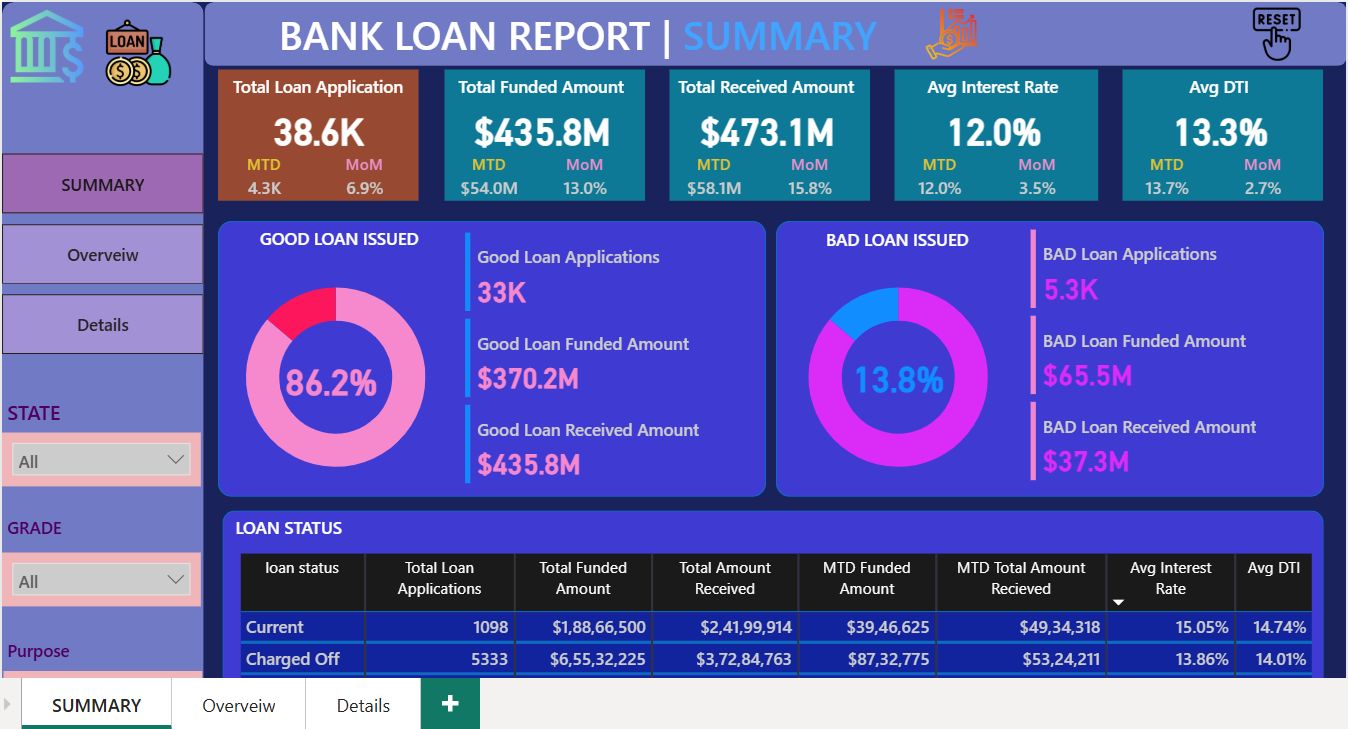

The page's visual inventory and layout, read from the dashboard file:
{"tool":"powerbi","page":{"name":"SUMMARY","canvas":[1280,720],"ordinal":0},"visuals":[{"type":"image","box":[3.1,0,79.7,84.4],"z":0,"group":"g6"},{"type":"shape","box":[206.3,64.1,191,125],"z":0,"group":"g1"},{"type":"shape","box":[422,64.1,191,125],"z":0,"group":"g2"},{"type":"shape","box":[636.1,64.1,191,125],"z":0,"group":"g3"},{"type":"shape","box":[850.3,64.1,194.1,125],"z":0,"group":"g4"},{"type":"shape","box":[1067.5,64.1,191,125],"z":0,"group":"g5"},{"type":"shape","box":[206.3,207.9,522,262.6],"z":0},{"type":"image","box":[82.8,10.9,93.8,73.5],"z":1000,"group":"g6"},{"type":"card","fields":{"Values":["public loan_data.Total Loan Applications"]},"box":[220.4,96.9,162.6,46.9],"z":1000,"group":"g1"},{"type":"card","fields":{"Values":["public loan_data.Total Funded Amount"]},"box":[435.6,96.9,157,46.9],"z":1000,"group":"g2"},{"type":"card","fields":{"Values":["public loan_data.Total Amount Received"]},"box":[649.7,96.9,157,46.9],"z":1000,"group":"g3"},{"type":"card","fields":{"Values":["public loan_data.Avg Interest Rate"]},"box":[864.1,96.9,159.5,46.9],"z":1000,"group":"g4"},{"type":"card","fields":{"Values":["public loan_data.Avg DTI"]},"box":[1081.1,96.9,157,46.9],"z":1000,"group":"g5"},{"type":"card","fields":{"Values":["public loan_data.Good Loan %"]},"box":[250.1,336,126.6,46.9],"z":1000},{"type":"shape","box":[192.2,0,1087.8,61],"z":2000},{"type":"textbox","box":[206.3,64.1,190.7,39.1],"z":2000,"group":"g1"},{"type":"textbox","box":[422,64.1,184.1,39.1],"z":2000,"group":"g2"},{"type":"textbox","box":[636.1,64.1,184.1,39.1],"z":2000,"group":"g3"},{"type":"textbox","box":[850.3,64.1,187.1,39.1],"z":2000,"group":"g4"},{"type":"textbox","box":[1067.5,64.1,184.1,39.1],"z":2000,"group":"g5"},{"type":"card","title":"MTD","fields":{"Values":["public loan_data.MTD Loan Applications"]},"box":[206.3,143.8,87.5,45.3],"z":3000,"group":"g1"},{"type":"card","title":"MTD","fields":{"Values":["public loan_data.MTD Funded Amount"]},"box":[422,143.8,84.5,45.3],"z":3000,"group":"g2"},{"type":"card","title":"MTD","fields":{"Values":["public loan_data.MTD Total Amount Recieved"]},"box":[636.1,143.8,84.5,45.3],"z":3000,"group":"g3"},{"type":"card","title":"MTD","fields":{"Values":["public loan_data.Avg Interest Rate"]},"box":[850.3,143.8,85.9,45.3],"z":3000,"group":"g4"},{"type":"card","title":"MTD","fields":{"Values":["public loan_data.MTD Avg DTI"]},"box":[1067.5,143.8,84.5,45.3],"z":3000,"group":"g5"},{"type":"textbox","box":[215.7,207.9,211,39.1],"z":3000},{"type":"shape","box":[0,0,192.2,720.5],"z":4000},{"type":"card","title":"MoM","fields":{"Values":["public loan_data.MoM Loan Application"]},"box":[301.6,143.8,87.5,45.3],"z":4000,"group":"g1"},{"type":"card","title":"MoM","fields":{"Values":["public loan_data.MoM Total Funded Amount"]},"box":[514.1,143.8,84.5,45.3],"z":4000,"group":"g2"},{"type":"card","title":"MoM","fields":{"Values":["public loan_data.MoM Total Recieved Amount"]},"box":[728.2,143.8,84.5,45.3],"z":4000,"group":"g3"},{"type":"card","title":"MoM","fields":{"Values":["public loan_data.MoM Avg Int Rate"]},"box":[943.9,143.8,85.9,45.3],"z":4000,"group":"g4"},{"type":"card","title":"MoM","fields":{"Values":["public loan_data.MoM Avg DTI"]},"box":[1159.6,143.8,84.5,45.3],"z":4000,"group":"g5"},{"type":"textbox","box":[243.8,0,616.1,60.5],"z":5000},{"type":"group","id":"g1","title":"Group 1","box":[206.3,64.1,190.7,125],"z":6000},{"type":"group","id":"g2","title":"Group 1","box":[422,64.1,192.2,125],"z":7000},{"type":"donutChart","fields":{"Category":["public loan_data.Good vs Bad Loan"],"Y":["public loan_data.Total Loan Applications"]},"box":[206.3,242.3,223.5,228.2],"z":8000},{"type":"group","id":"g3","title":"Group 1","box":[636.1,64.1,192.2,125],"z":9000},{"type":"group","id":"g4","title":"Group 1","box":[850.3,64.1,193.8,125],"z":10000},{"type":"group","id":"g5","title":"Group 1","box":[1067.5,64.1,192.2,125],"z":11000},{"type":"image","box":[844,0,120.4,61],"z":12000},{"type":"group","id":"g6","title":"Group 2","box":[3.1,0,173.5,84.4],"z":13000},{"type":"shape","box":[737.7,207.9,522,262.6],"z":14000},{"type":"cardVisual","fields":{"Data":["public loan_data.Good Loan Applications","public loan_data.Good Loan Funded Amount","public loan_data.Good Loan Received Amount"]},"box":[436.1,214.1,284.5,250.1],"z":16000},{"type":"donutChart","fields":{"Category":["public loan_data.Good vs Bad Loan"],"Y":["public loan_data.Total Loan Applications"]},"box":[740.9,242.3,223.5,228.2],"z":17000},{"type":"textbox","box":[747.1,209.4,211,39.1],"z":18000},{"type":"card","fields":{"Values":["public loan_data.BAD Loan %"]},"box":[789.3,332.9,126.6,46.9],"z":19000},{"type":"cardVisual","fields":{"Data":["public loan_data.BAD Loan Applications","public loan_data.BAD Loan Funded Amount","public loan_data.BAD Loan Received Amount"]},"box":[973.7,211,278.2,250.1],"z":20000},{"type":"shape","box":[209.4,484.5,1048.8,236],"z":21000},{"type":"tableEx","fields":{"Values":["public loan_data.loan_status","public loan_data.Total Loan Applications","public loan_data.Total Funded Amount","public loan_data.Total Amount Received","public loan_data.MTD Funded Amount","public loan_data.MTD Total Amount Recieved","public loan_data.Avg Interest Rate","public loan_data.Avg DTI"]},"box":[221.9,520.5,1031.6,200.1],"z":22000},{"type":"textbox","box":[212.6,484.5,211,39.1],"z":23000},{"type":"slicer","fields":{"Values":["public loan_data.address_state"]},"box":[0,409.5,189.1,51.6],"z":24000},{"type":"textbox","box":[0,373.6,90.7,35.9],"z":25000},{"type":"slicer","fields":{"Values":["public loan_data.grade"]},"box":[0,523.6,189.1,51.6],"z":26000},{"type":"textbox","box":[0,484.5,78.1,35.9],"z":27000},{"type":"slicer","fields":{"Values":["public loan_data.purpose"]},"box":[1.6,637.7,189.1,51.6],"z":28000},{"type":"textbox","box":[0,601.8,90.7,35.9],"z":29000},{"type":"pageNavigator","box":[0,143.8,192.2,192.2],"z":29001},{"type":"image","box":[1151.9,0,125,61],"z":29002}]}

Visuals, with their boxes on the page's 1280x720 design canvas (x1, y1, x2, y2). These are canvas units, not pixel positions in the 1348x729 screenshot, which may show the page scaled, cropped or inside an application window:
image: detection(3, 0, 83, 84)
shape: detection(206, 64, 397, 189)
shape: detection(422, 64, 613, 189)
shape: detection(636, 64, 827, 189)
shape: detection(850, 64, 1044, 189)
shape: detection(1068, 64, 1258, 189)
shape: detection(206, 208, 728, 470)
image: detection(83, 11, 177, 84)
card - public loan_data.Total Loan Applications: detection(220, 97, 383, 144)
card - public loan_data.Total Funded Amount: detection(436, 97, 593, 144)
card - public loan_data.Total Amount Received: detection(650, 97, 807, 144)
card - public loan_data.Avg Interest Rate: detection(864, 97, 1024, 144)
card - public loan_data.Avg DTI: detection(1081, 97, 1238, 144)
card - public loan_data.Good Loan %: detection(250, 336, 377, 383)
shape: detection(192, 0, 1280, 61)
textbox: detection(206, 64, 397, 103)
textbox: detection(422, 64, 606, 103)
textbox: detection(636, 64, 820, 103)
textbox: detection(850, 64, 1037, 103)
textbox: detection(1068, 64, 1252, 103)
"MTD" card: detection(206, 144, 294, 189)
"MTD" card: detection(422, 144, 506, 189)
"MTD" card: detection(636, 144, 721, 189)
"MTD" card: detection(850, 144, 936, 189)
"MTD" card: detection(1068, 144, 1152, 189)
textbox: detection(216, 208, 427, 247)
shape: detection(0, 0, 192, 720)
"MoM" card: detection(302, 144, 389, 189)
"MoM" card: detection(514, 144, 599, 189)
"MoM" card: detection(728, 144, 813, 189)
"MoM" card: detection(944, 144, 1030, 189)
"MoM" card: detection(1160, 144, 1244, 189)
textbox: detection(244, 0, 860, 60)
"Group 1" group: detection(206, 64, 397, 189)
"Group 1" group: detection(422, 64, 614, 189)
donutChart - public loan_data.Good vs Bad Loan x public loan_data.Total Loan Applications: detection(206, 242, 430, 470)
"Group 1" group: detection(636, 64, 828, 189)
"Group 1" group: detection(850, 64, 1044, 189)
"Group 1" group: detection(1068, 64, 1260, 189)
image: detection(844, 0, 964, 61)
"Group 2" group: detection(3, 0, 177, 84)
shape: detection(738, 208, 1260, 470)
cardVisual - public loan_data.Good Loan Applications x public loan_data.Good Loan Funded Amount: detection(436, 214, 721, 464)
donutChart - public loan_data.Good vs Bad Loan x public loan_data.Total Loan Applications: detection(741, 242, 964, 470)
textbox: detection(747, 209, 958, 248)
card - public loan_data.BAD Loan %: detection(789, 333, 916, 380)
cardVisual - public loan_data.BAD Loan Applications x public loan_data.BAD Loan Funded Amount: detection(974, 211, 1252, 461)
shape: detection(209, 484, 1258, 720)
tableEx - public loan_data.loan_status x public loan_data.Total Loan Applications: detection(222, 520, 1254, 721)
textbox: detection(213, 484, 424, 524)
slicer - public loan_data.address_state: detection(0, 410, 189, 461)
textbox: detection(0, 374, 91, 410)
slicer - public loan_data.grade: detection(0, 524, 189, 575)
textbox: detection(0, 484, 78, 520)
slicer - public loan_data.purpose: detection(2, 638, 191, 689)
textbox: detection(0, 602, 91, 638)
pageNavigator: detection(0, 144, 192, 336)
image: detection(1152, 0, 1277, 61)
